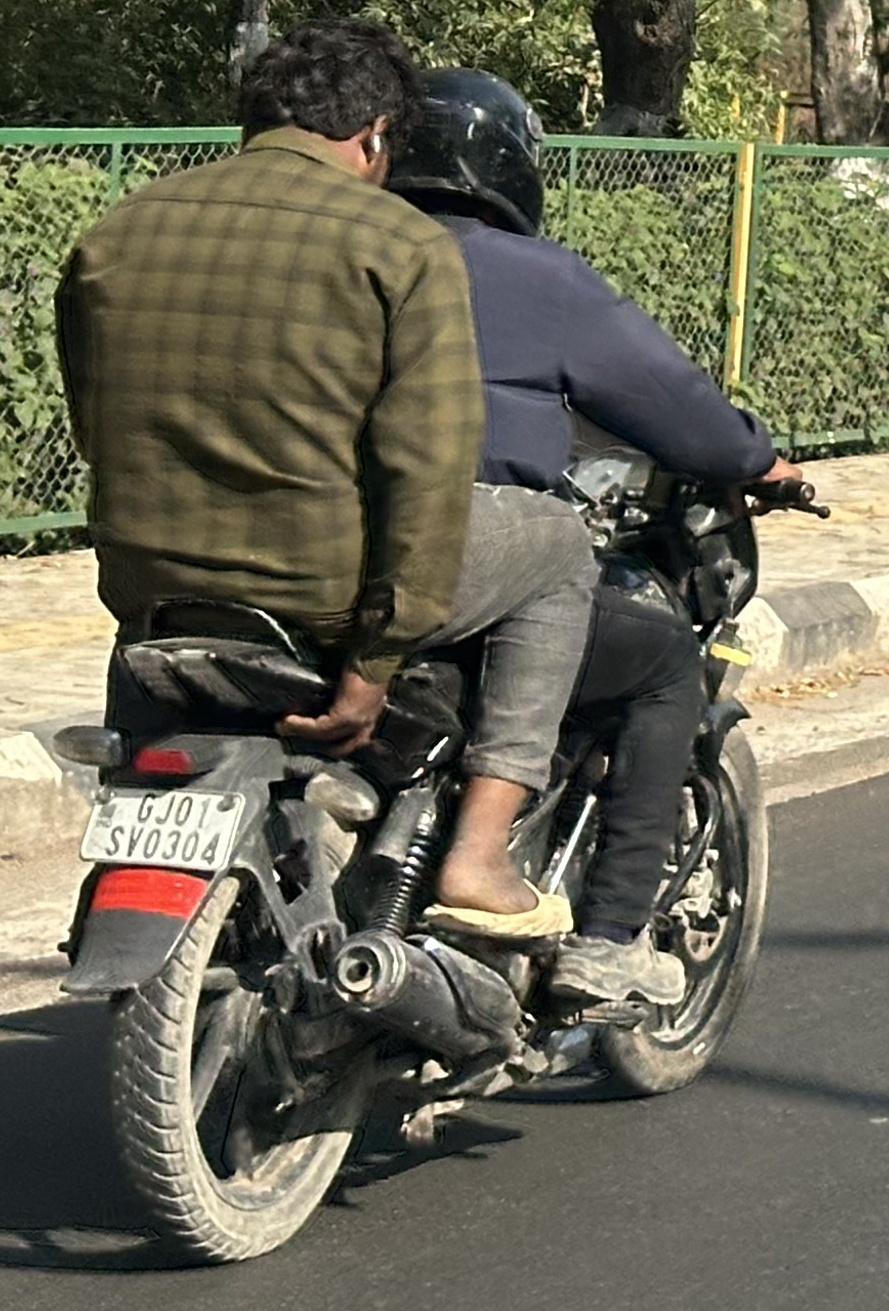BikeWithRider: (50, 20, 833, 1260)
Helmet: (393, 59, 562, 237)
NoHelmet: (235, 22, 413, 200)
